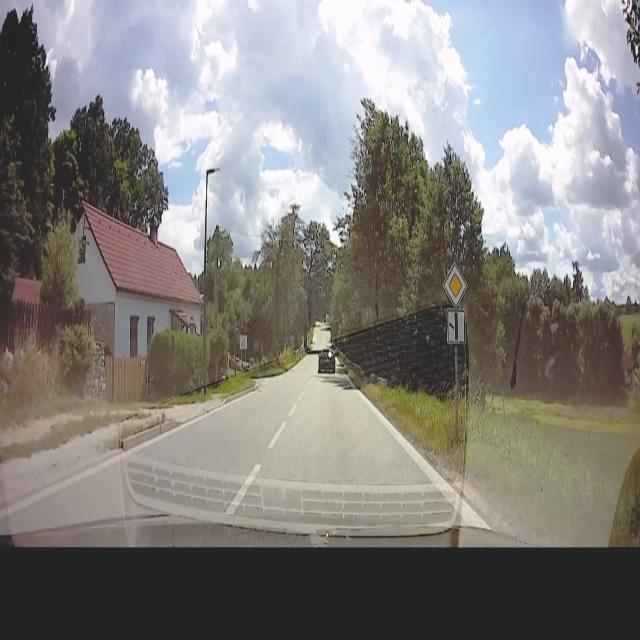Priority road: (437, 253, 472, 308)
